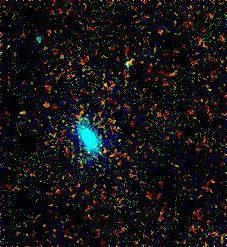star: (32, 90, 62, 120)
